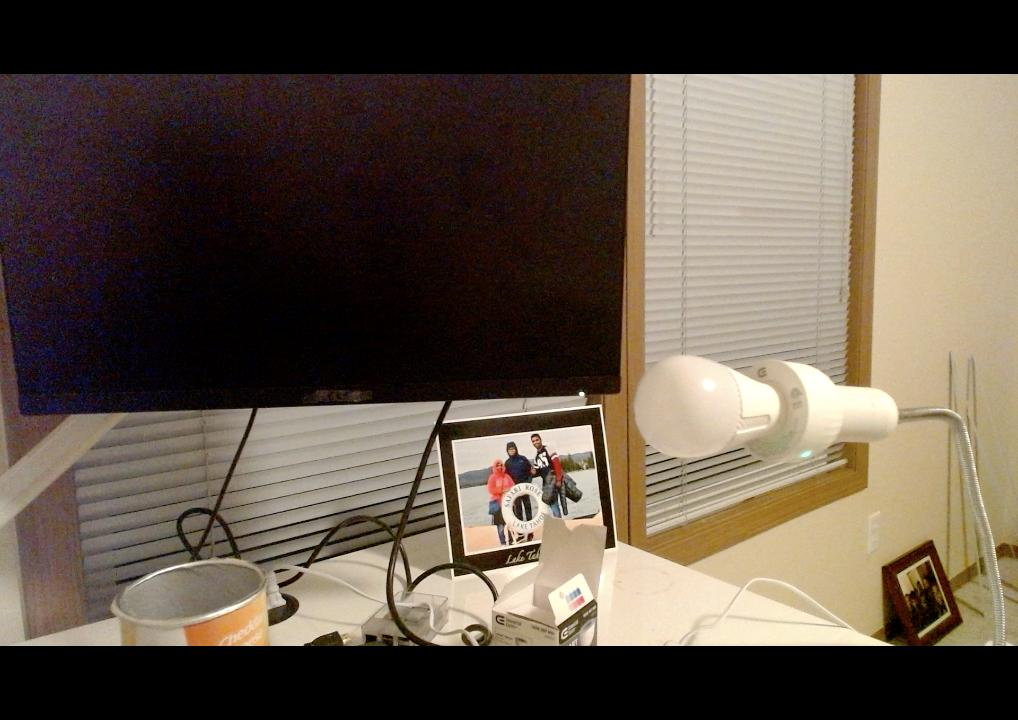Fan: (631, 353, 782, 458)
